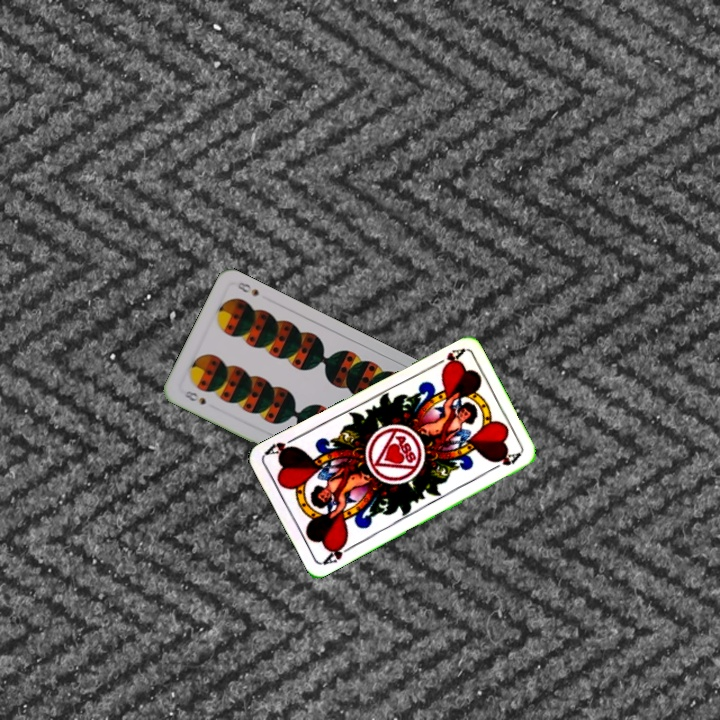HA: (319, 537, 356, 568), (428, 344, 466, 371)
S8: (180, 387, 208, 407)
